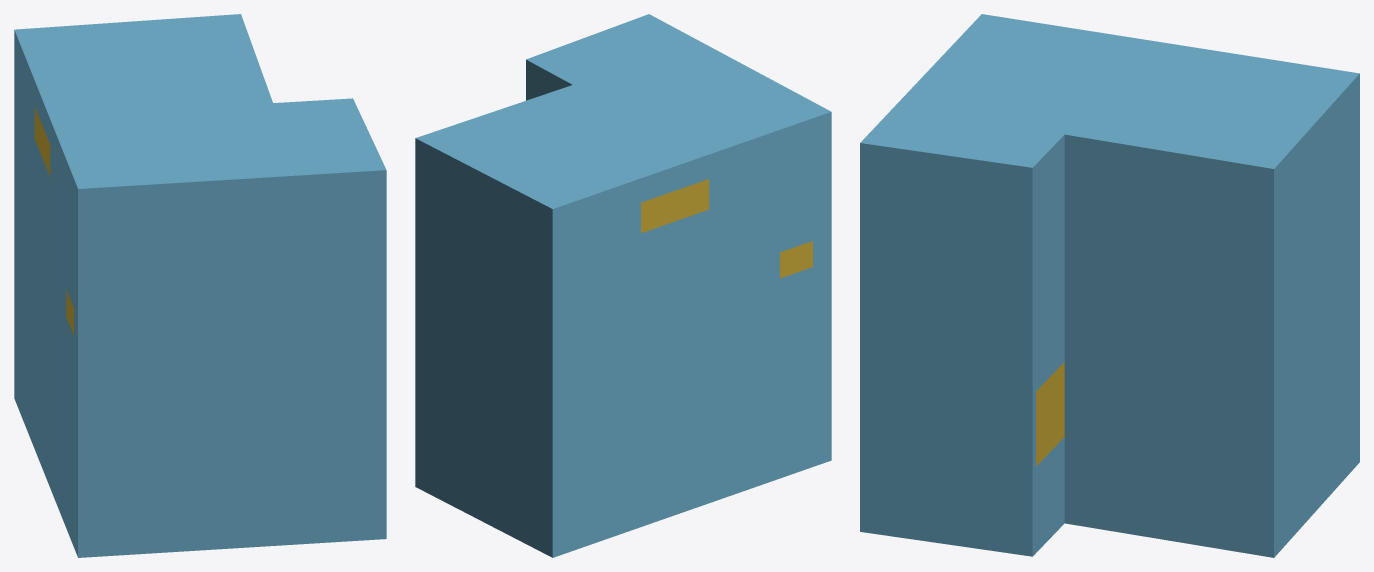
Rendered from bldg_f027b9ba-675b-4bb4-88fa-c09c35920fe3.obj.
3 renders of one model, left to right at view 1: azimuth 30°, elevation 25°; view 2: azimuth 150°, elevation 25°; view 3: azimuth 270°, elevation 25°, orthographic. The views are drawn at different scales.
Size of the model in its own units: 11.04 by 12.91 by 15.03.
